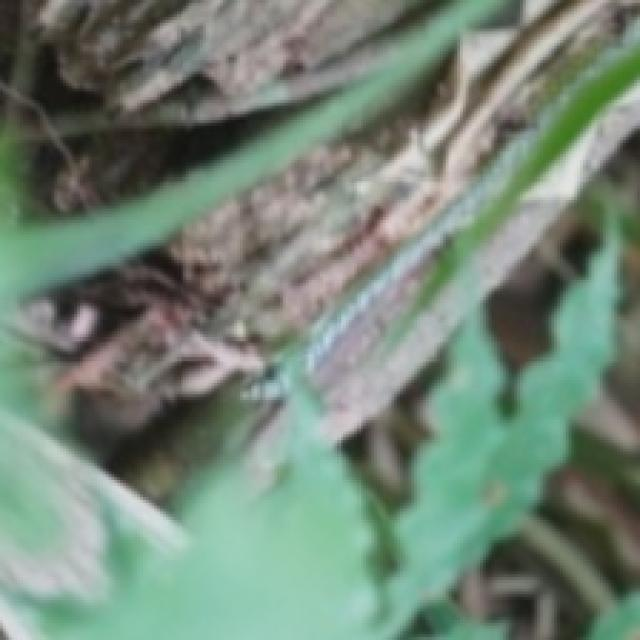paradise tree snake: (0, 0, 637, 503), (0, 0, 397, 211), (309, 246, 497, 434)
